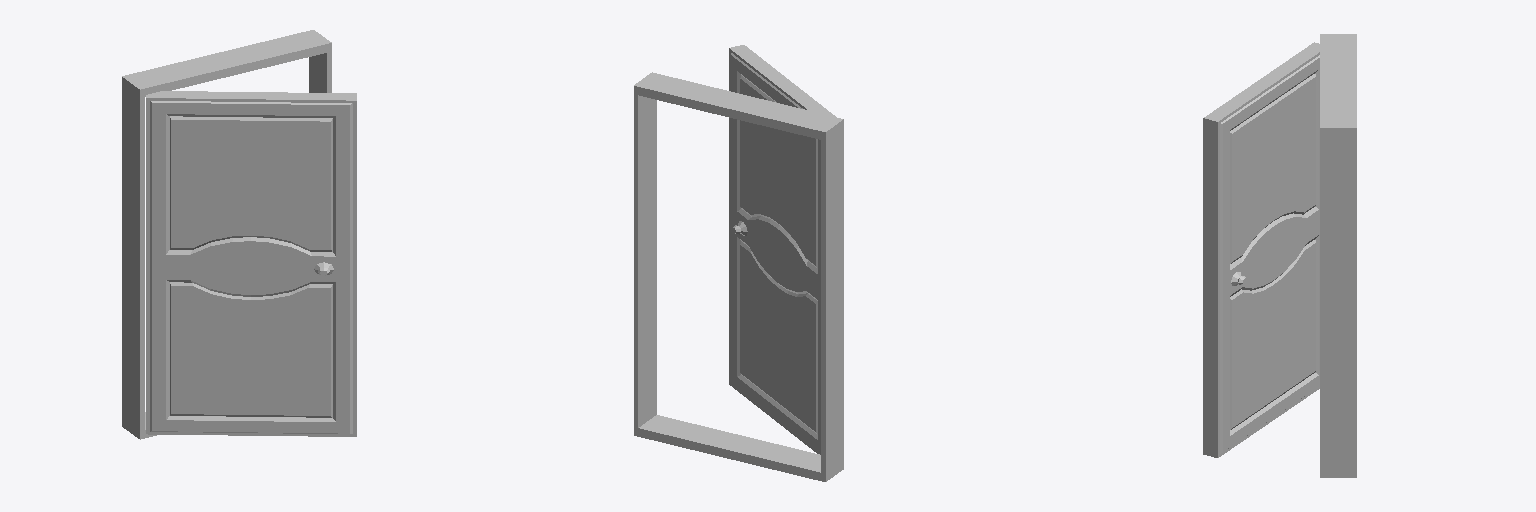
Rendered from drzwiok_000025.obj.
3 views of the same model, side by side, from view 1: azimuth 30°, elevation 25°; view 2: azimuth 150°, elevation 25°; view 3: azimuth 270°, elevation 25° (orthographic).
Parts seen in each view (by area): view 1: Door_4.001_Cube.001, Kostka; view 2: Door_4.001_Cube.001, Kostka; view 3: Door_4.001_Cube.001, Kostka.
Part boxes in pixels (x1,y1,x2,y2): Door_4.001_Cube.001: (146, 91, 356, 436); Kostka: (122, 30, 331, 439); Door_4.001_Cube.001: (729, 45, 835, 454); Kostka: (634, 72, 843, 481); Door_4.001_Cube.001: (1203, 42, 1319, 457); Kostka: (1320, 34, 1356, 477).
Bounding box in the file's own units: 0.7416 × 1.29 × 0.5125.